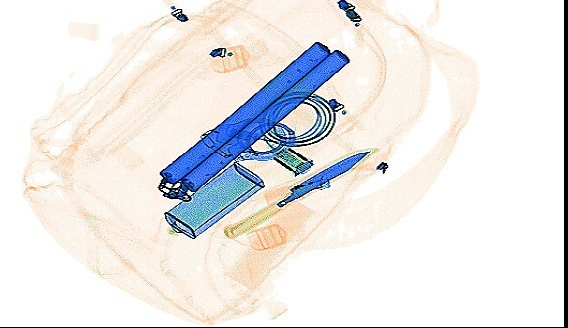handcuffs: (200, 117, 297, 162)
knife: (222, 146, 377, 237)
zippooil: (163, 159, 262, 239)
